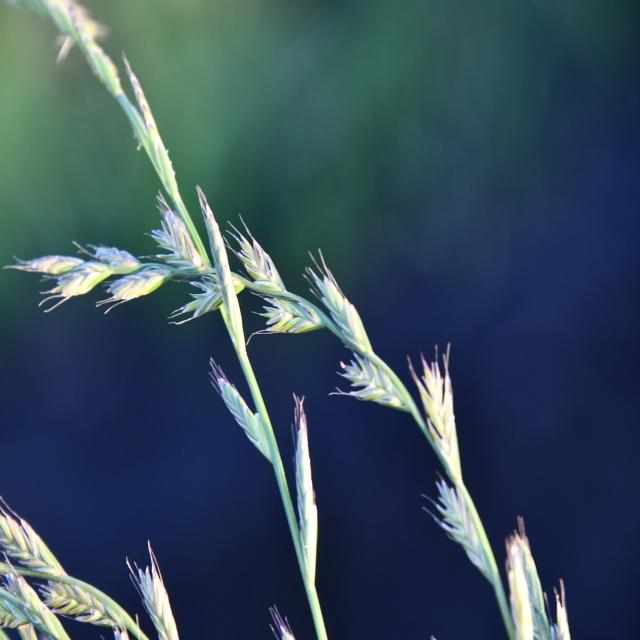Lolium: (2, 3, 574, 637)
